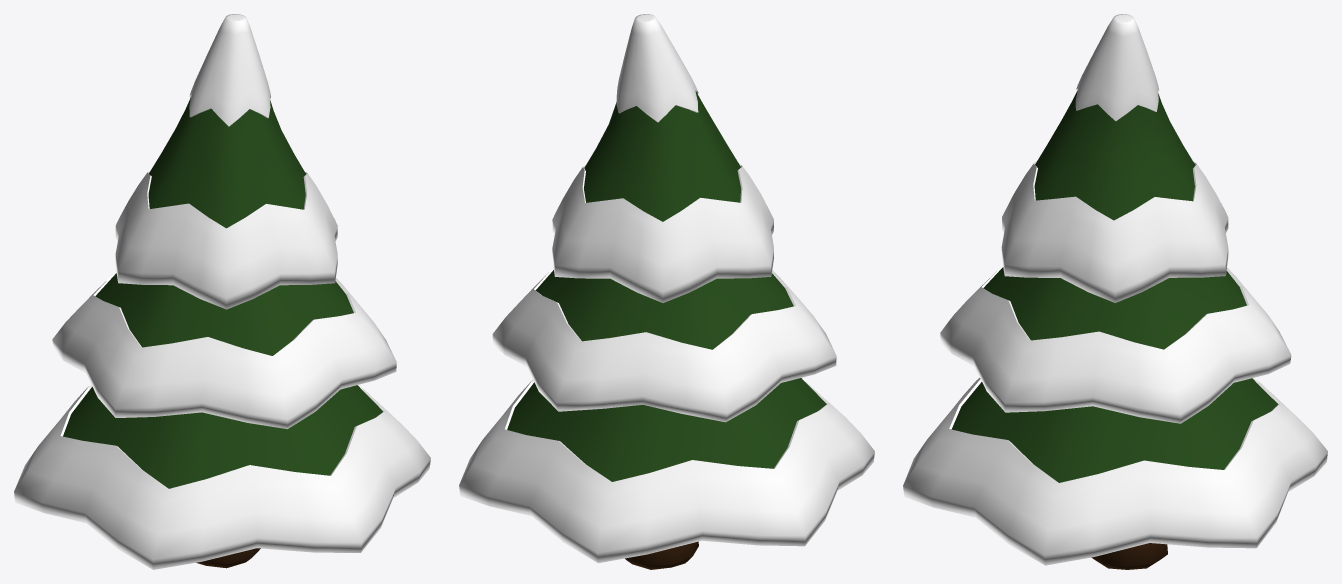
The model's file is Tree1SnowSmooth (4).FBX.
3 views of the same model, side by side, from view 1: azimuth 30°, elevation 25°; view 2: azimuth 150°, elevation 25°; view 3: azimuth 270°, elevation 25° (orthographic). The views are drawn at different scales.
Parts seen in each view (by area): view 1: Cone012, Cone010, Cone011, Cylinder008; view 2: Cone012, Cone010, Cone011, Cylinder008; view 3: Cone012, Cone010, Cone011, Cylinder008.
Part boxes in pixels (left/top/right/bottom): Cone012: left=14, top=384, right=430, bottom=569; Cone010: left=115, top=14, right=337, bottom=309; Cone011: left=52, top=273, right=396, bottom=429; Cylinder008: left=196, top=548, right=260, bottom=568; Cone012: left=459, top=378, right=874, bottom=563; Cone010: left=552, top=14, right=773, bottom=302; Cone011: left=492, top=269, right=836, bottom=422; Cylinder008: left=625, top=541, right=698, bottom=569; Cone012: left=903, top=377, right=1327, bottom=565; Cone010: left=1001, top=14, right=1228, bottom=302; Cone011: left=940, top=267, right=1291, bottom=423; Cylinder008: left=1091, top=543, right=1167, bottom=569.
Bounding box in the file's own units: 132 × 195 × 137.
